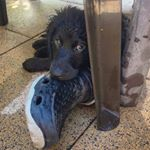puppy: (22, 7, 89, 80)
